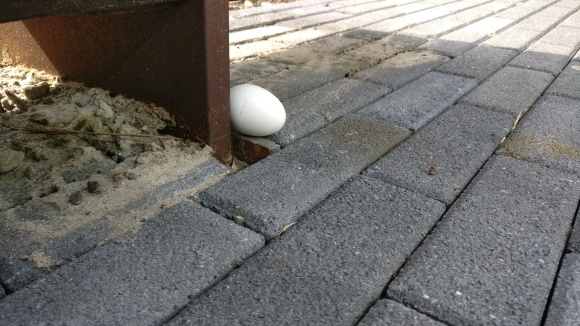egg: (229, 84, 286, 136)
